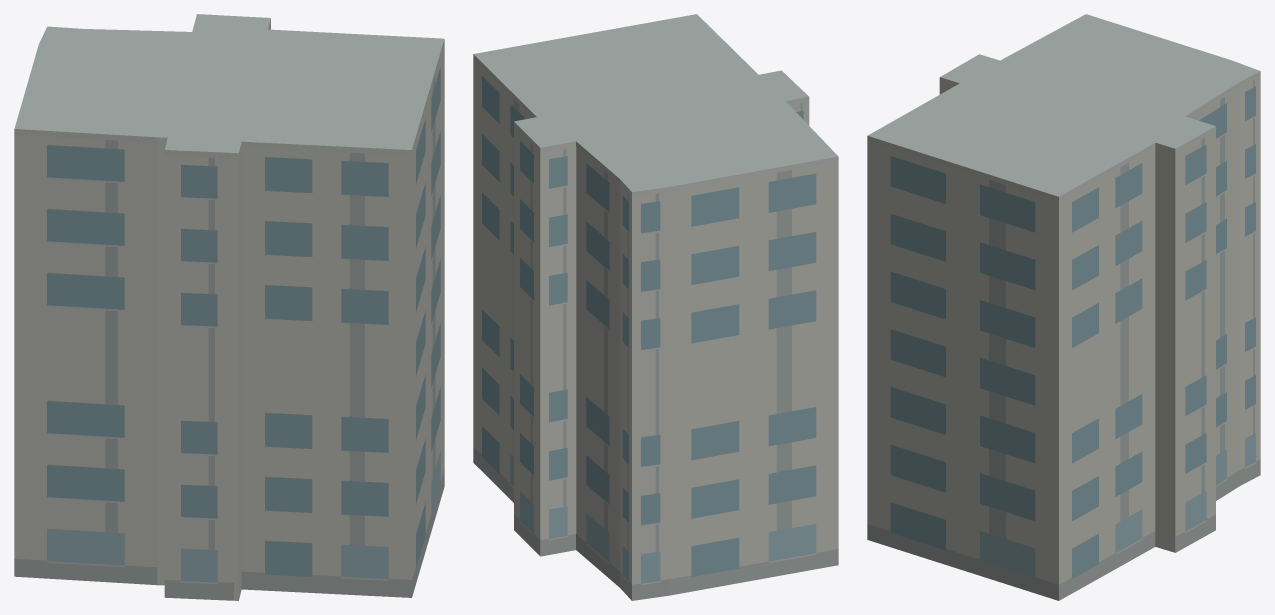
Rendered from survey-upis-32886981.glb.
The picture shows the model from 3 angles, left to right: view 1: azimuth 30°, elevation 25°; view 2: azimuth 150°, elevation 25°; view 3: azimuth 270°, elevation 25°; orthographic projection. The views are drawn at different scales.
Visible parts, largest first — view 1: survey-upis-32886981.tmp; view 2: survey-upis-32886981.tmp; view 3: survey-upis-32886981.tmp.
Part boxes in pixels (left/top/right/bottom): survey-upis-32886981.tmp: left=14, top=14, right=444, bottom=600; survey-upis-32886981.tmp: left=473, top=14, right=838, bottom=600; survey-upis-32886981.tmp: left=867, top=14, right=1260, bottom=600.
Size of the model in its own units: 18.83 by 19.4 by 17.12.
